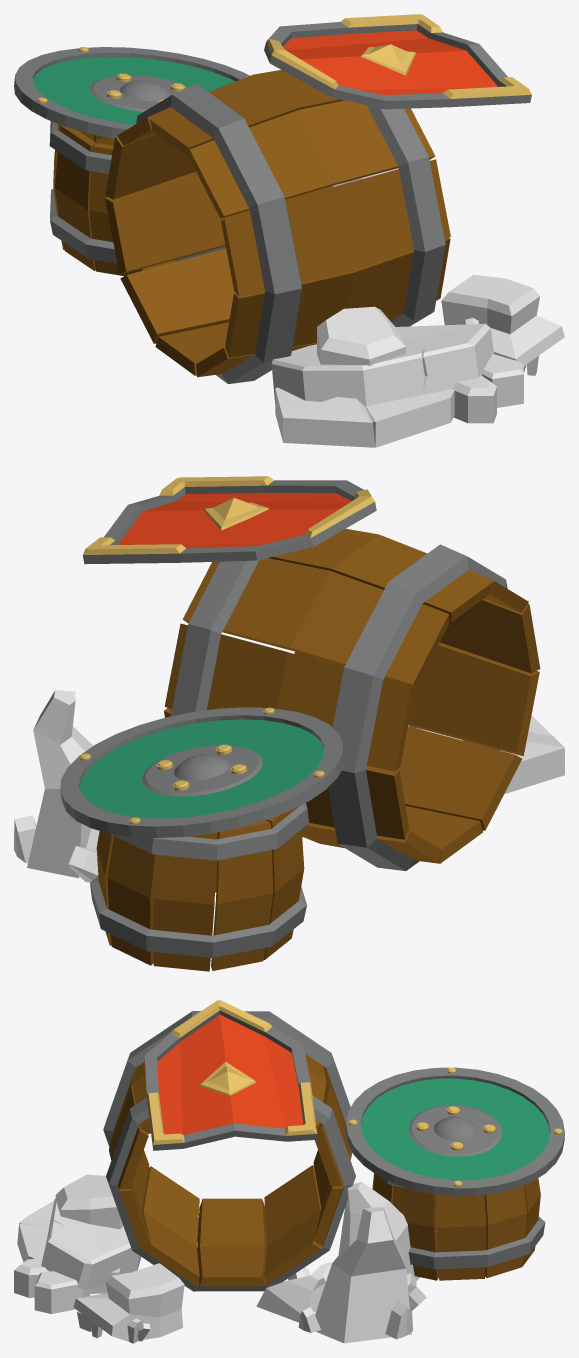
The model's file is GoblinHouse2.fbx.
3 renders of one model, top to bottom at view 1: azimuth 30°, elevation 25°; view 2: azimuth 150°, elevation 25°; view 3: azimuth 270°, elevation 25°, orthographic. The views are drawn at different scales.
Parts seen in each view (by area): view 1: House.002, Rock Type1 01 mesh.001, shield2.001, shield.002, House.003, Rock Type6 02 mesh.001, Cone.006; view 2: House.002, shield.002, House.003, shield2.001, Rock Type3 02 mesh.001, Rock Type1 01 mesh.001, Cone.006; view 3: House.002, shield.002, shield2.001, Rock Type3 02 mesh.001, House.003, Rock Type1 01 mesh.001, Rock Type6 02 mesh.001, Cone.006.
Part boxes in pixels (x1,y1,x2,y2): House.002: (105, 70, 450, 383); Rock Type1 01 mesh.001: (271, 306, 523, 447); shield2.001: (264, 14, 531, 109); shield.002: (14, 47, 249, 138); House.003: (49, 121, 225, 276); Rock Type6 02 mesh.001: (441, 274, 564, 375); Cone.006: (361, 44, 415, 75); House.002: (164, 528, 540, 870); shield.002: (60, 707, 344, 837); House.003: (90, 803, 308, 971); shield2.001: (82, 476, 376, 564); Rock Type3 02 mesh.001: (14, 690, 99, 882); Rock Type1 01 mesh.001: (408, 715, 564, 793); Cone.006: (203, 498, 268, 530); House.002: (103, 1011, 355, 1291); shield.002: (345, 1067, 564, 1196); shield2.001: (144, 1000, 317, 1150); Rock Type3 02 mesh.001: (256, 1182, 426, 1343); House.003: (372, 1173, 545, 1280); Rock Type1 01 mesh.001: (14, 1174, 140, 1313); Rock Type6 02 mesh.001: (73, 1263, 184, 1343); Cone.006: (199, 1061, 256, 1096).
Size of the model in its own units: 1264 by 1171 by 2221.
